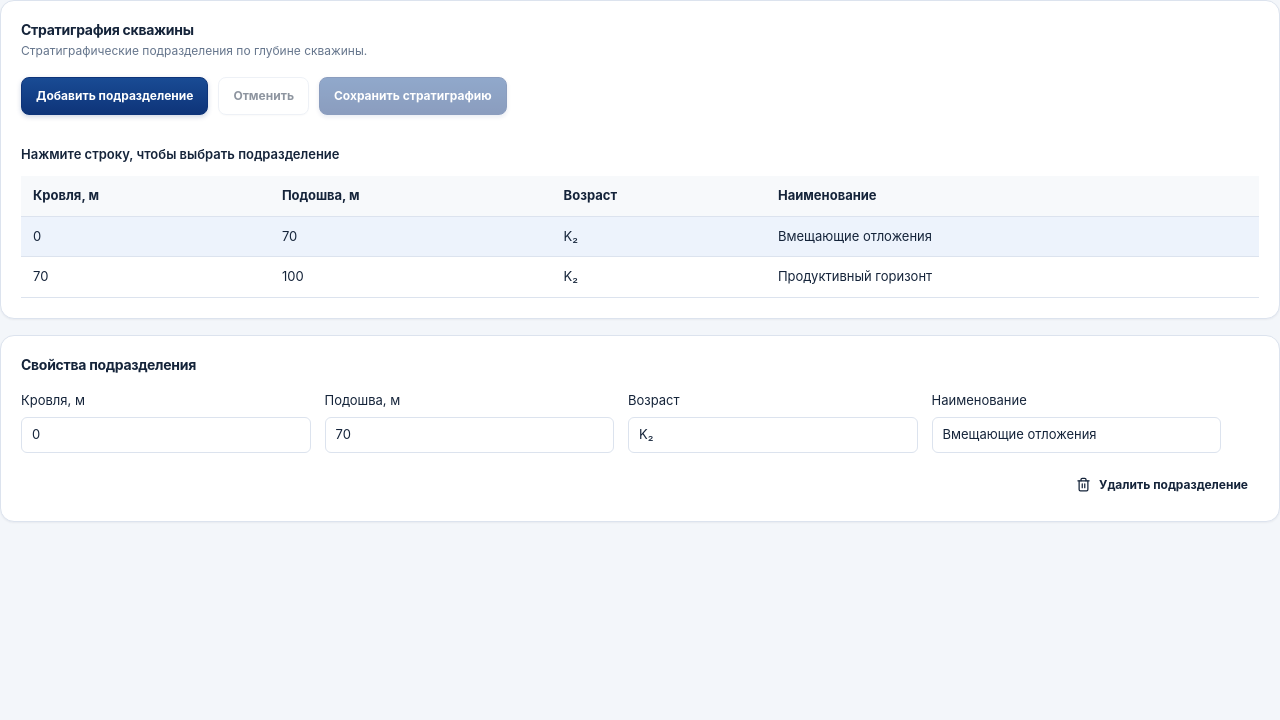
стратиграфия скважины › не сохраняет перекрывающиеся интервалы
The width and height of the screenshot is (1280, 720).
Replace the text in the number field labelled "Подошва, м" with "90" at (469, 435), box [324,417,614,453]
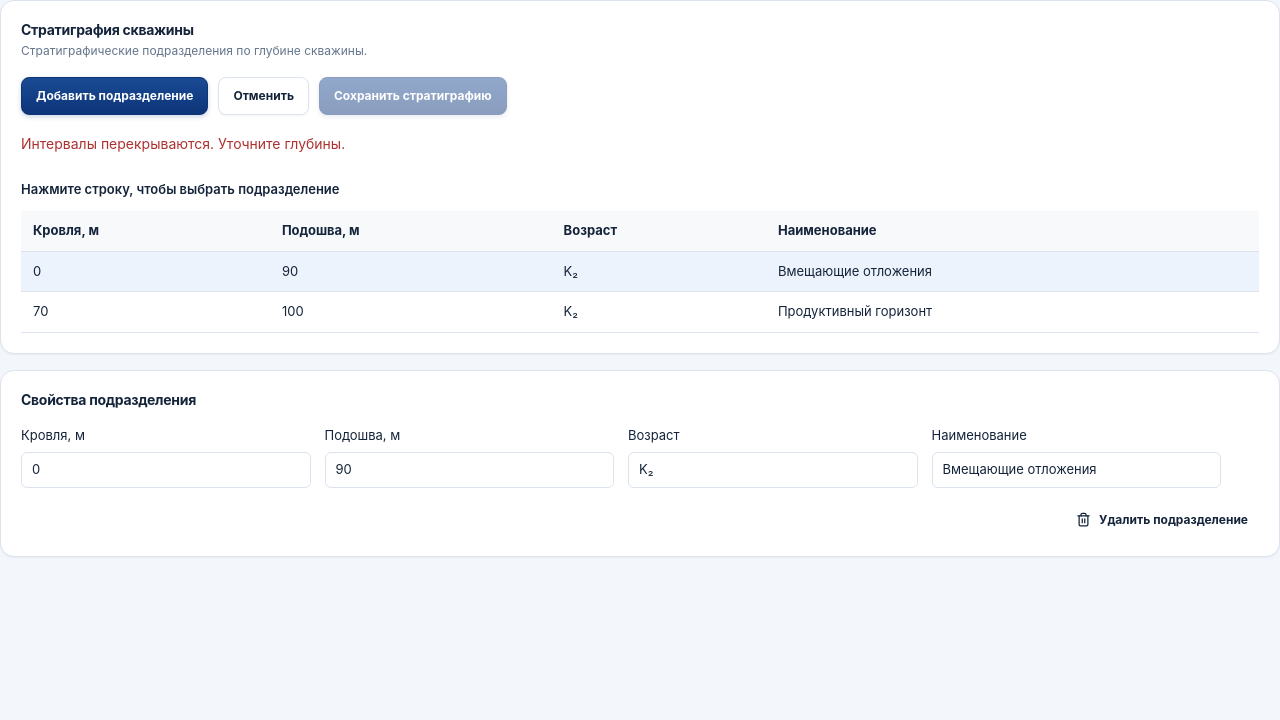
Expected: the button "Сохранить стратиграфию" is disabled, [319,77,507,115]
Expected: the message shows "перекрываются", [21,135,345,152]
